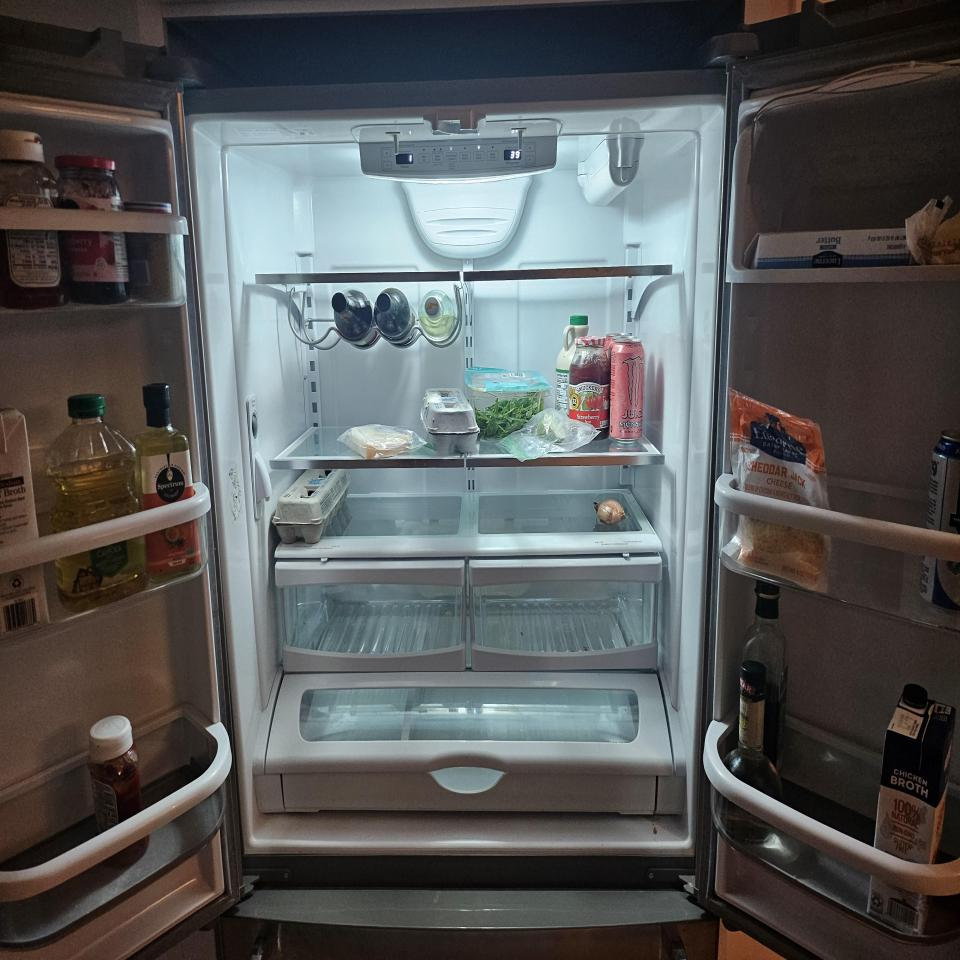Huevos: (272, 469, 352, 545), (420, 388, 480, 456)
Mantequilla: (742, 229, 910, 269)
Queso: (337, 424, 426, 460)
